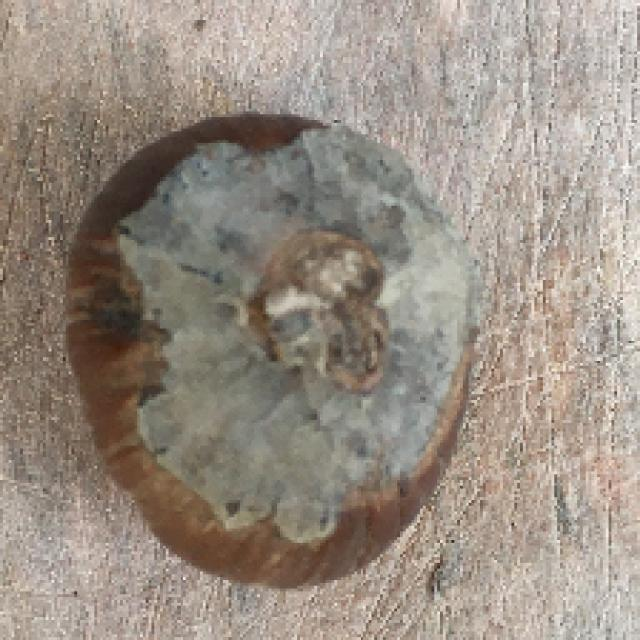damagedHazelnut: (57, 106, 474, 589)
